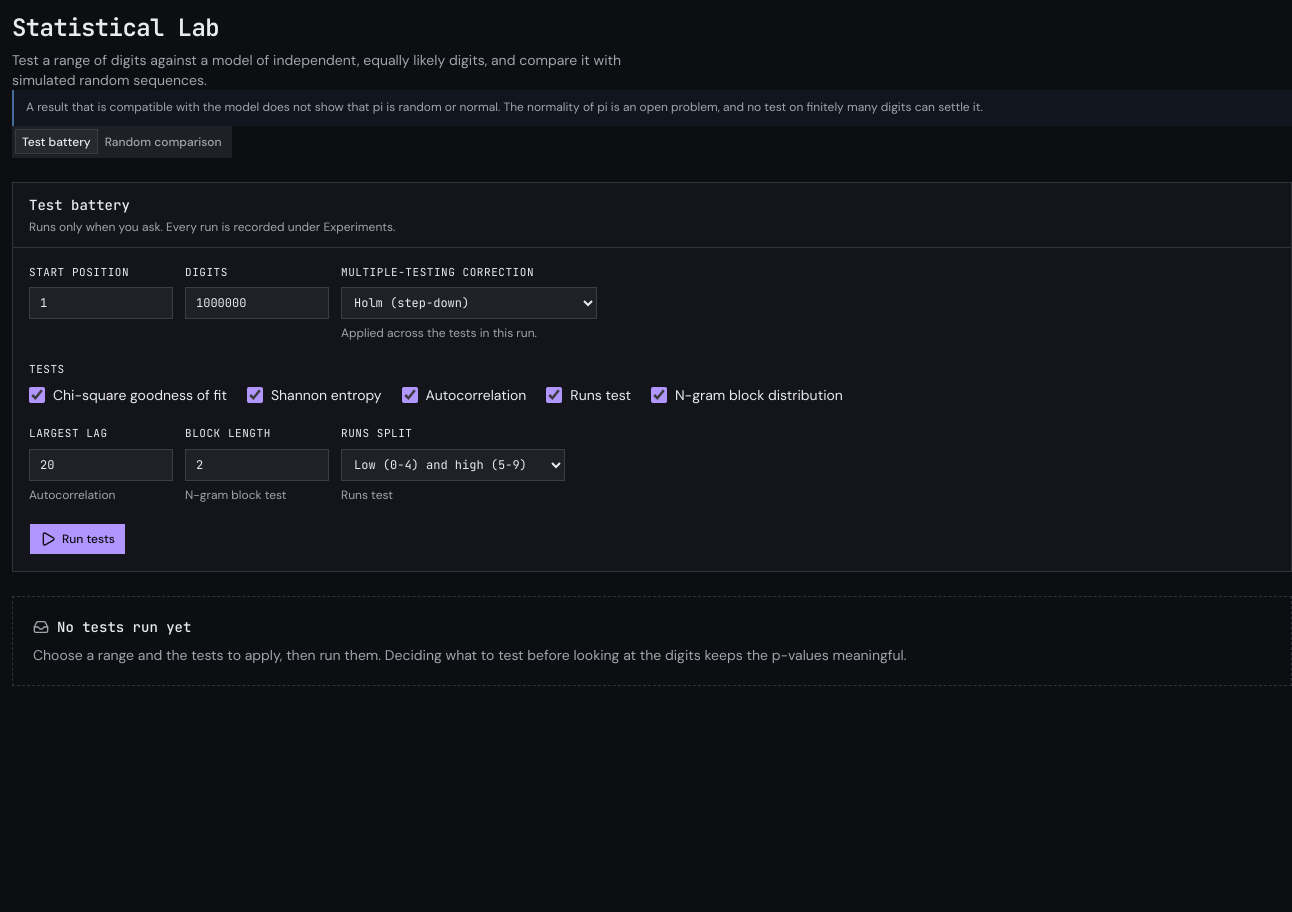
LabView test battery › shows the API's message when a run fails
Click the button "Run tests" at (78, 539), box [29,523,126,555]
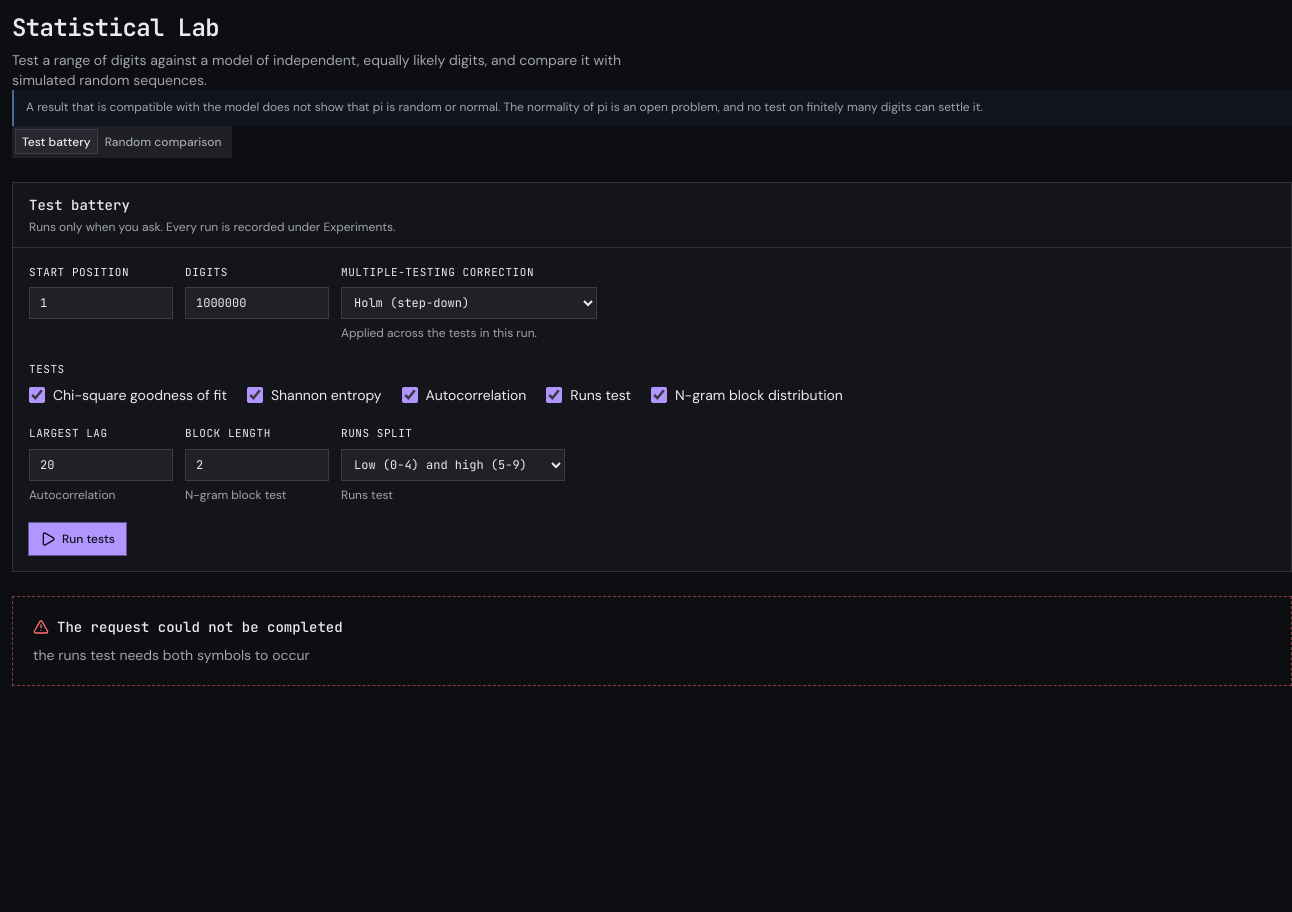
Check: the message shows "the runs test needs both symbols to occur", box [33,646,310,664]
